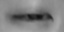LeftEyeFatigue: (5, 7, 56, 28)
